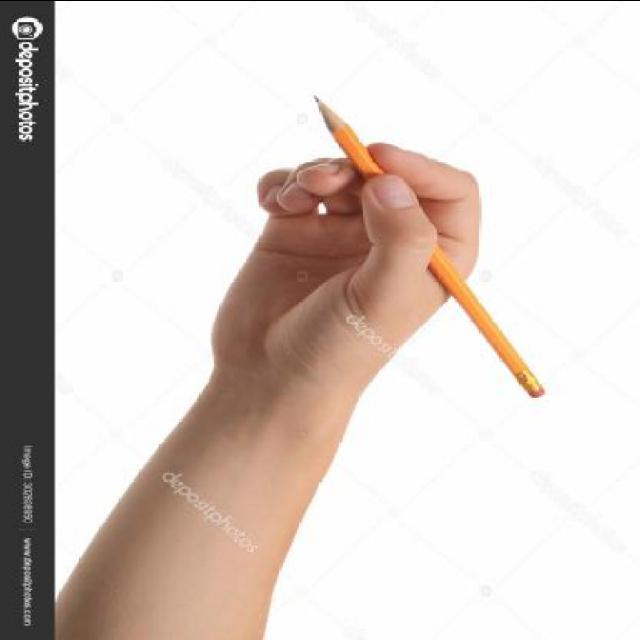pencil: (310, 90, 354, 138)
